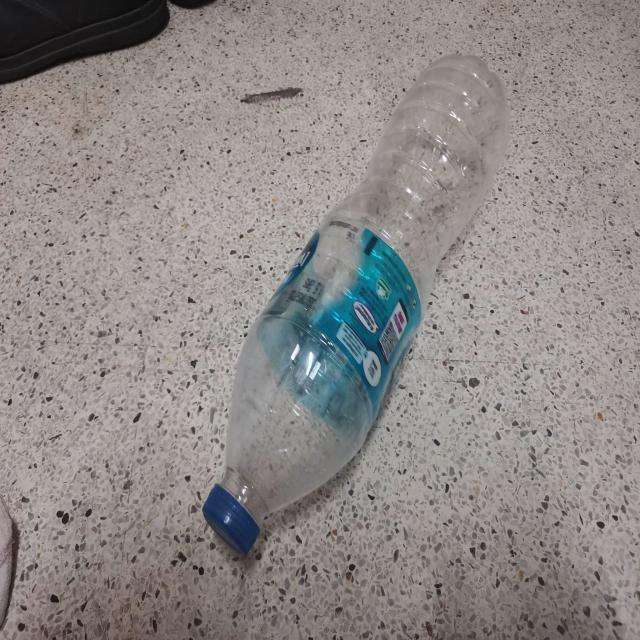bottle: (202, 54, 508, 556)
